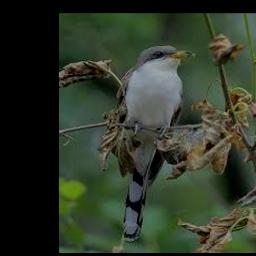Cuckoo: (117, 44, 196, 242)
